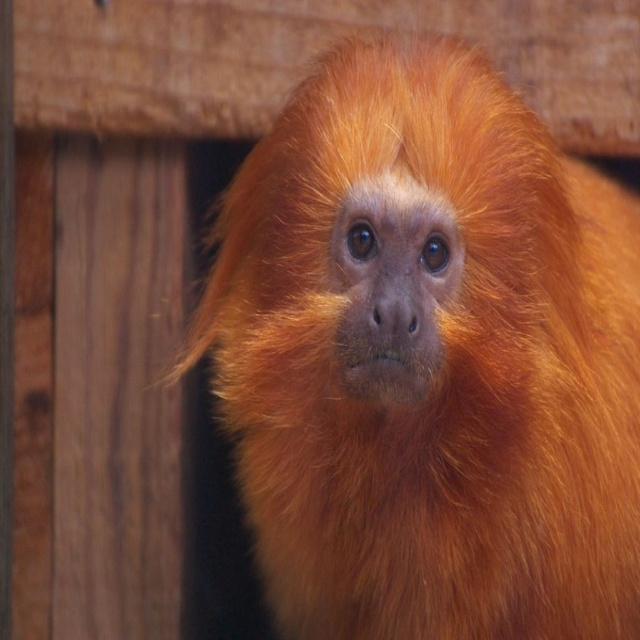Monkey: (148, 29, 640, 639)
